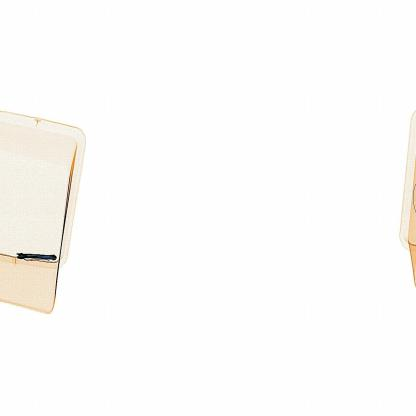knife: (14, 249, 60, 268)
